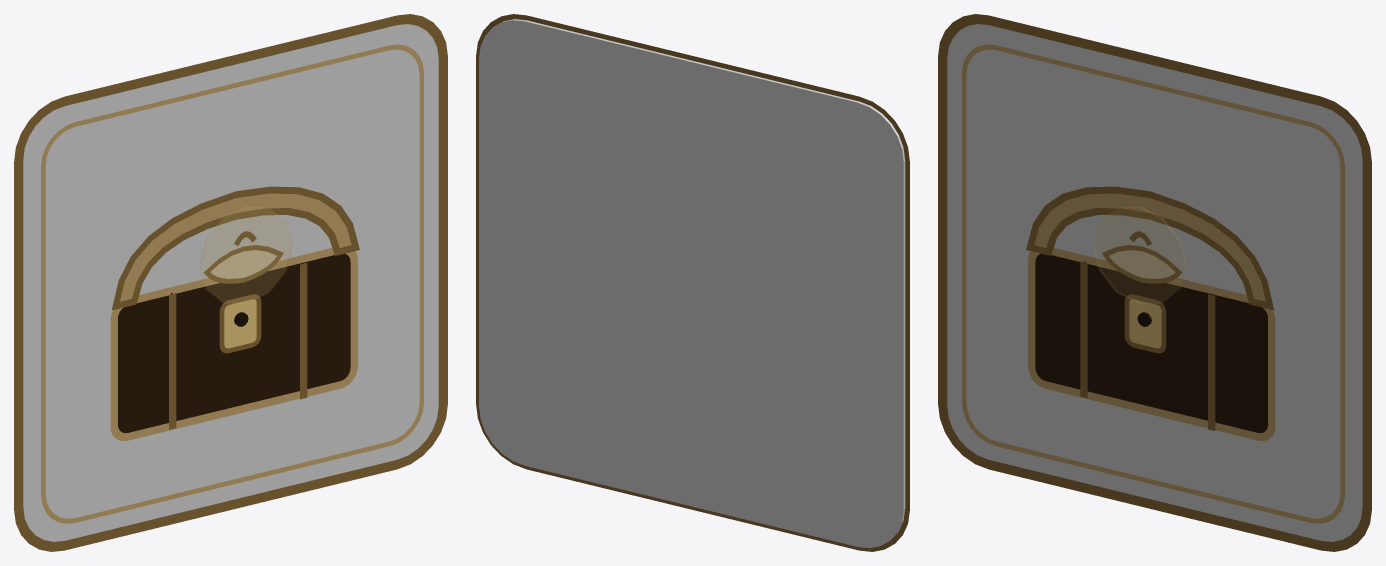
Rendered from obj-larets.glb.
The picture shows the model from 3 angles, left to right: view 1: azimuth 30°, elevation 25°; view 2: azimuth 150°, elevation 25°; view 3: azimuth 330°, elevation 25°; orthographic projection.
Parts seen in each view (by area): view 1: obj-larets; view 2: obj-larets; view 3: obj-larets.
Part boxes in pixels (x1=…): obj-larets: x1=14, y1=14, x2=447, y2=551; obj-larets: x1=476, y1=14, x2=909, y2=551; obj-larets: x1=938, y1=14, x2=1371, y2=551.
Size of the model in its own units: 0.3917 by 0.3917 by 0.0275.
